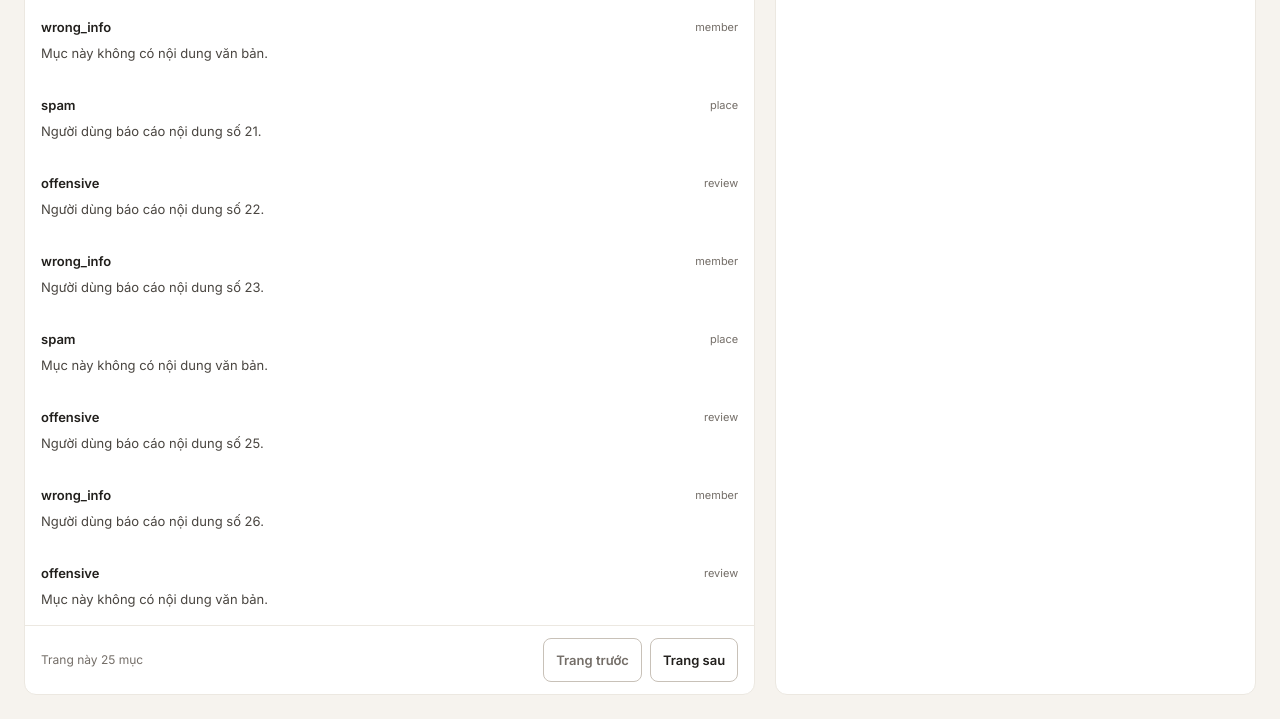
per-type moderation queues (CMS-033) › resets paging when the tab changes
(page scrolled)
expect the text "Trang này 25 mục" is shown: met, box [41, 652, 143, 668]
Click the button "Trang sau" at x=694, y=660, box [650, 638, 738, 682]
(page scrolled)
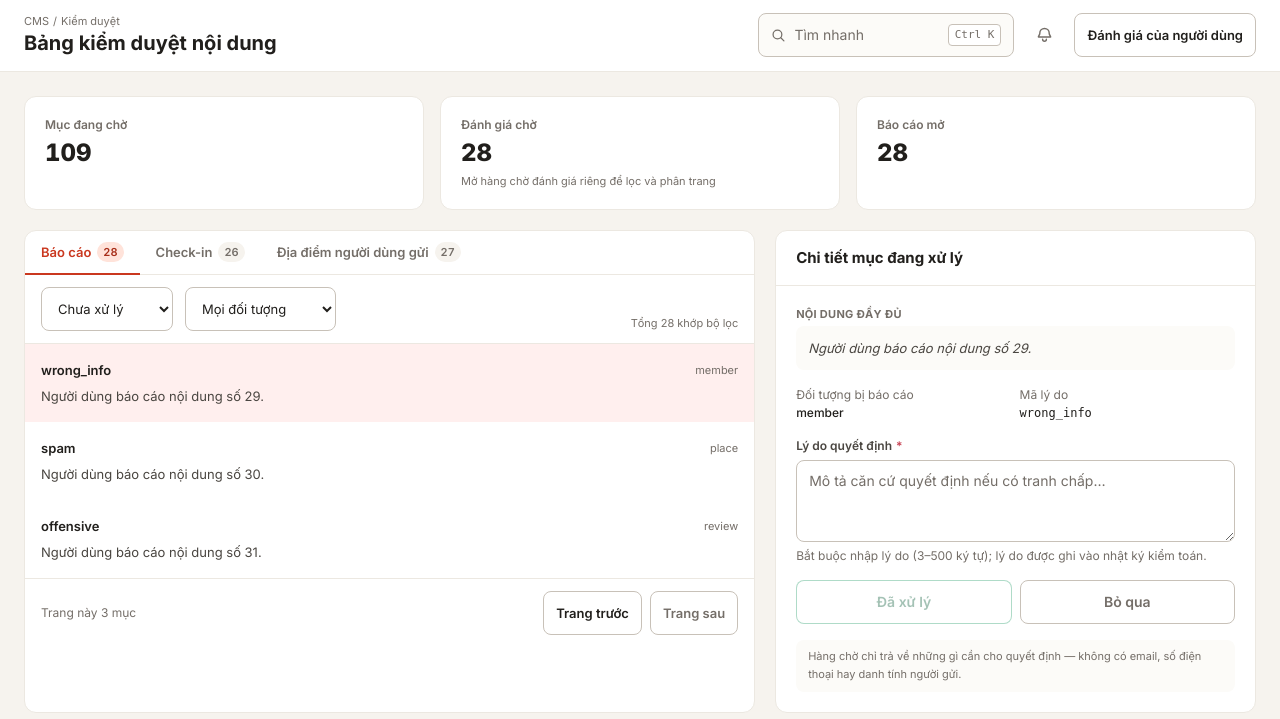
expect the button "Trang trước" is enabled: met, box [543, 591, 642, 635]
Click the tab "Check-in 26" at x=200, y=253, box [140, 231, 261, 275]
(page scrolled)
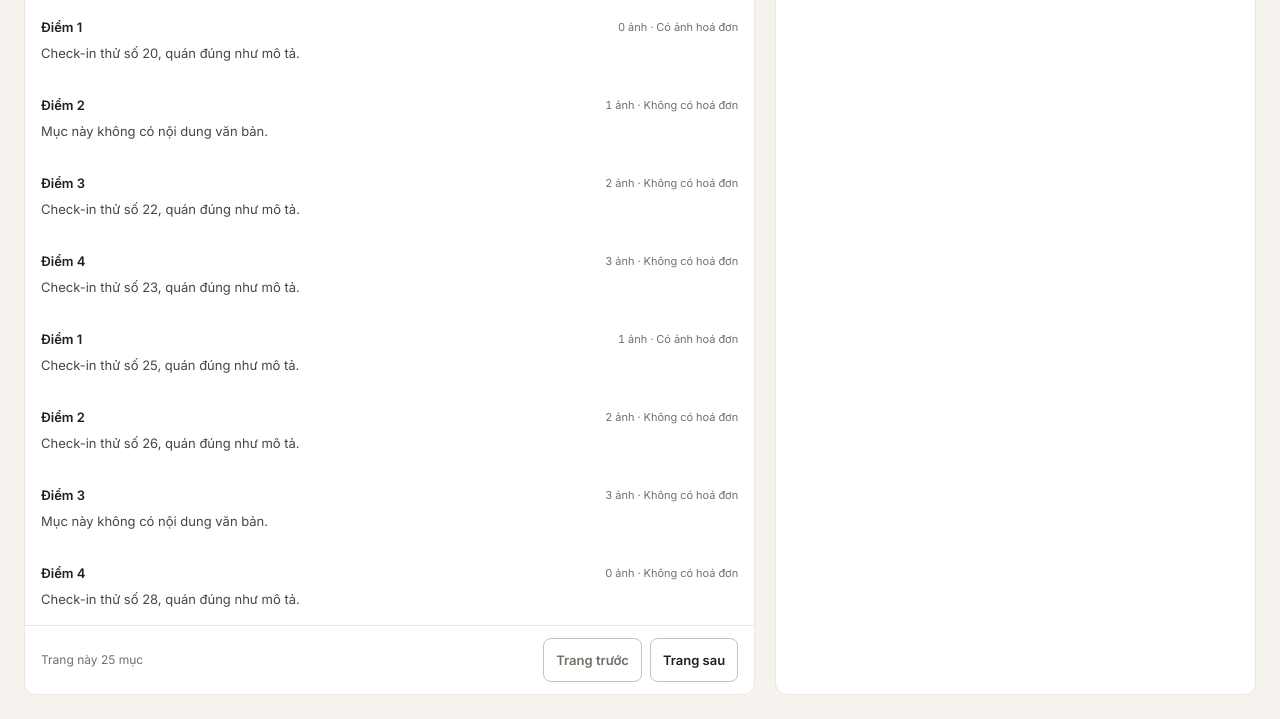
expect the button "Trang trước" is disabled: met, box [543, 638, 642, 682]
